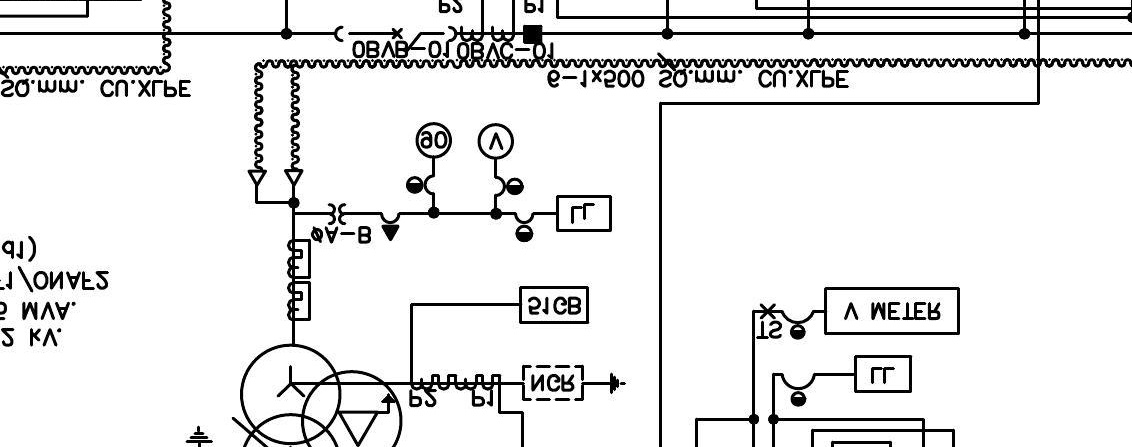22_breaker: (333, 25, 458, 52)
LL: (853, 354, 913, 394), (555, 195, 613, 232)
NGR_future: (521, 364, 627, 401)
terminator_double: (247, 169, 304, 205)
v_m: (476, 122, 515, 161)
v_m_digital: (823, 286, 961, 336)
